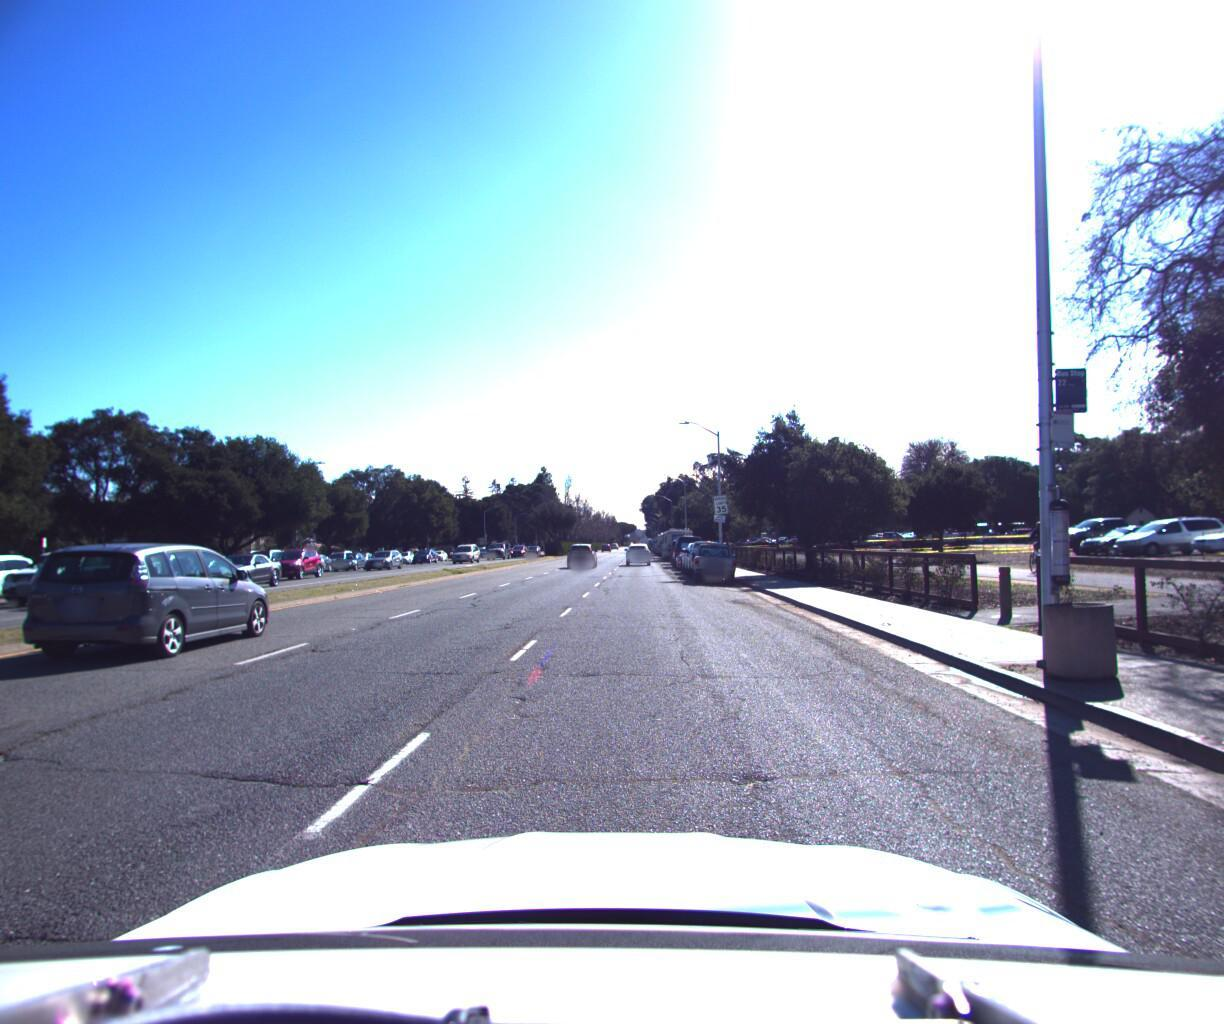car: (3, 519, 284, 669), (195, 547, 290, 588), (687, 535, 741, 581), (679, 532, 737, 574), (265, 542, 332, 577), (674, 533, 725, 570), (666, 527, 705, 563), (564, 537, 599, 564), (449, 537, 482, 558), (624, 537, 650, 560)
other_vehicle: (655, 520, 693, 555)
